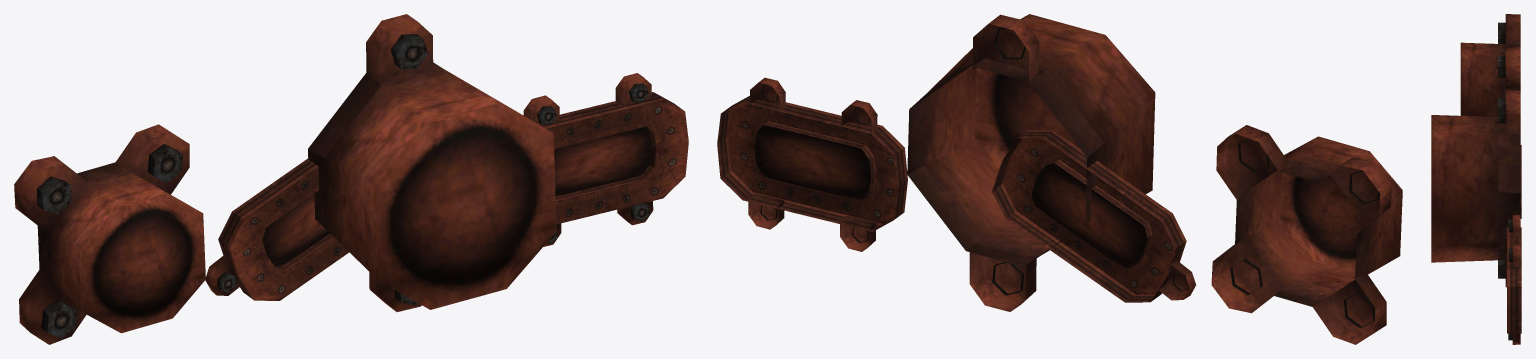
Rendered from multi_cable_hanging_connector02.dae.
3 views of the same model, side by side, from view 1: azimuth 30°, elevation 25°; view 2: azimuth 150°, elevation 25°; view 3: azimuth 270°, elevation 25° (orthographic). The views are drawn at different scales.
Parts seen in each view (by area): view 1: polySurface872, polySurface873; view 2: polySurface872, polySurface873; view 3: polySurface872, polySurface873.
Boxes of the visible parts, <box> form: polySurface872: <box>14,14,653,344</box>; polySurface873: <box>218,92,688,300</box>; polySurface872: <box>748,14,1402,344</box>; polySurface873: <box>717,96,1186,302</box>; polySurface872: <box>1431,14,1520,344</box>; polySurface873: <box>1507,145,1521,333</box>.
Size of the model in its own units: 0.6341 by 0.2605 by 0.1131.
